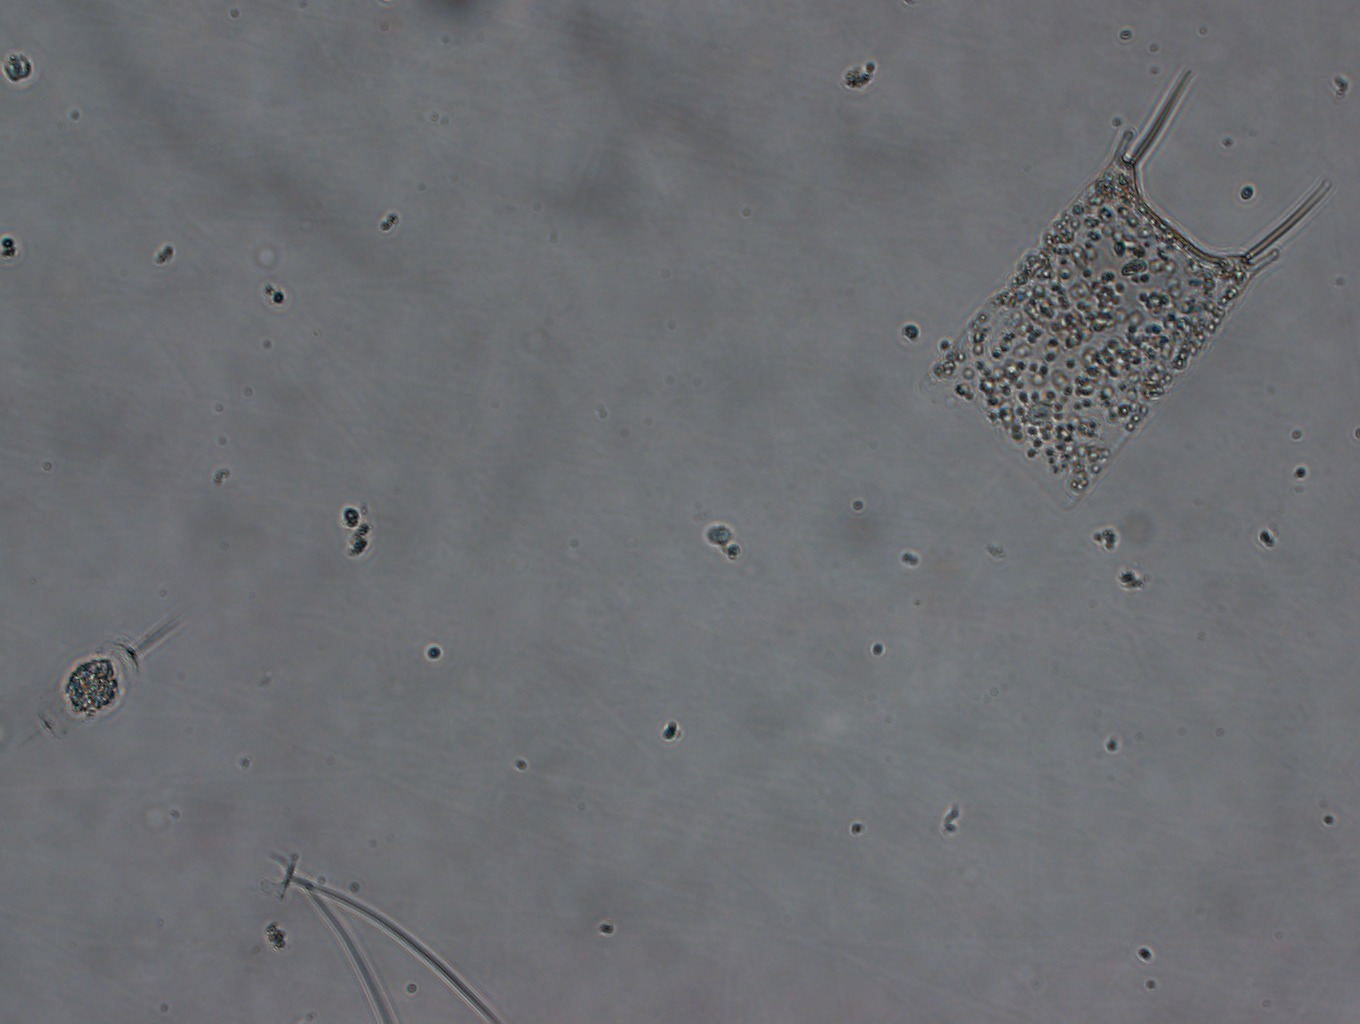biddulphia: (928, 65, 1332, 508)
ditylum: (31, 612, 181, 741)
